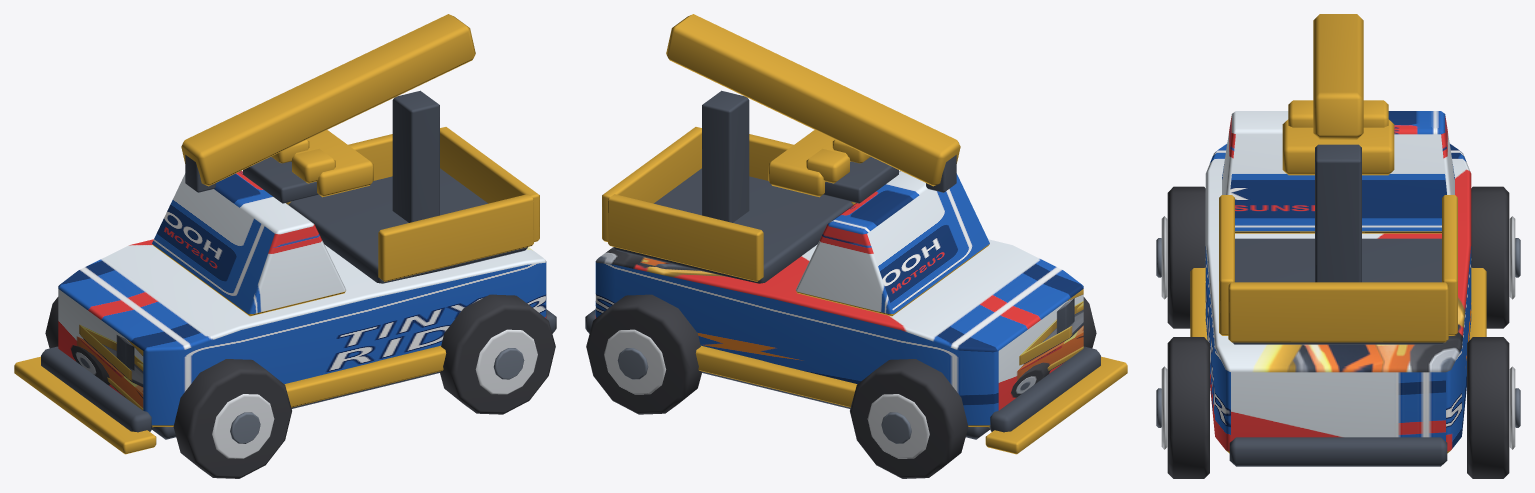
3 views of the same model, side by side, from view 1: azimuth 30°, elevation 25°; view 2: azimuth 150°, elevation 25°; view 3: azimuth 270°, elevation 25° (orthographic). The views are drawn at different scales.
Parts seen in each view (by area): view 1: RC-04_connected_shell, RC-04_cabin, boom, cargo side, Tire, Tire.002, cargo floor, boom pillar, custom side guard, cargo tail, custom chin, front bumper (+8 smaller); view 2: RC-04_connected_shell, RC-04_cabin, boom, cargo side.001, Tire.001, Tire.003, cargo floor, boom pillar, custom side guard.001, cargo tail, custom chin, front bumper (+8 smaller); view 3: RC-04_connected_shell, RC-04_cabin, cargo tail, cargo floor, boom pillar, rear bumper, boom, Tire.002, Tire.003, Tire, Tire.001, custom equipment (+10 smaller).
Part boxes in pixels (left/top/right/bottom): RC-04_connected_shell: left=58, top=239, right=546, bottom=427; RC-04_cabin: left=152, top=171, right=345, bottom=316; boom: left=181, top=14, right=475, bottom=186; cargo side: left=378, top=194, right=533, bottom=281; Tire: left=173, top=359, right=291, bottom=478; Tire.002: left=439, top=294, right=555, bottom=414; cargo floor: left=288, top=168, right=527, bottom=283; boom pillar: left=392, top=90, right=439, bottom=222; custom side guard: left=284, top=345, right=446, bottom=407; cargo tail: left=440, top=127, right=539, bottom=241; custom chin: left=14, top=356, right=156, bottom=454; front bumper: left=41, top=346, right=152, bottom=432; RC-04_connected_shell: left=595, top=239, right=1083, bottom=427; RC-04_cabin: left=796, top=171, right=989, bottom=316; boom: left=666, top=14, right=960, bottom=186; cargo side.001: left=608, top=194, right=763, bottom=281; Tire.001: left=850, top=359, right=968, bottom=478; Tire.003: left=586, top=294, right=702, bottom=414; cargo floor: left=614, top=168, right=853, bottom=283; boom pillar: left=702, top=90, right=749, bottom=222; custom side guard.001: left=695, top=345, right=857, bottom=407; cargo tail: left=602, top=127, right=701, bottom=241; custom chin: left=985, top=356, right=1127, bottom=454; front bumper: left=989, top=346, right=1100, bottom=432; RC-04_connected_shell: left=1205, top=144, right=1471, bottom=453; RC-04_cabin: left=1222, top=111, right=1454, bottom=233; cargo tail: left=1228, top=282, right=1448, bottom=342; cargo floor: left=1232, top=238, right=1444, bottom=344; boom pillar: left=1315, top=144, right=1361, bottom=282; rear bumper: left=1229, top=437, right=1447, bottom=466; boom: left=1313, top=14, right=1363, bottom=139; Tire.002: left=1167, top=337, right=1209, bottom=478; Tire.003: left=1467, top=337, right=1509, bottom=478; Tire: left=1167, top=186, right=1205, bottom=328; Tire.001: left=1471, top=186, right=1509, bottom=328; custom equipment: left=1282, top=119, right=1394, bottom=175.
Bounding box in the file's own units: 370 × 269 × 225.
